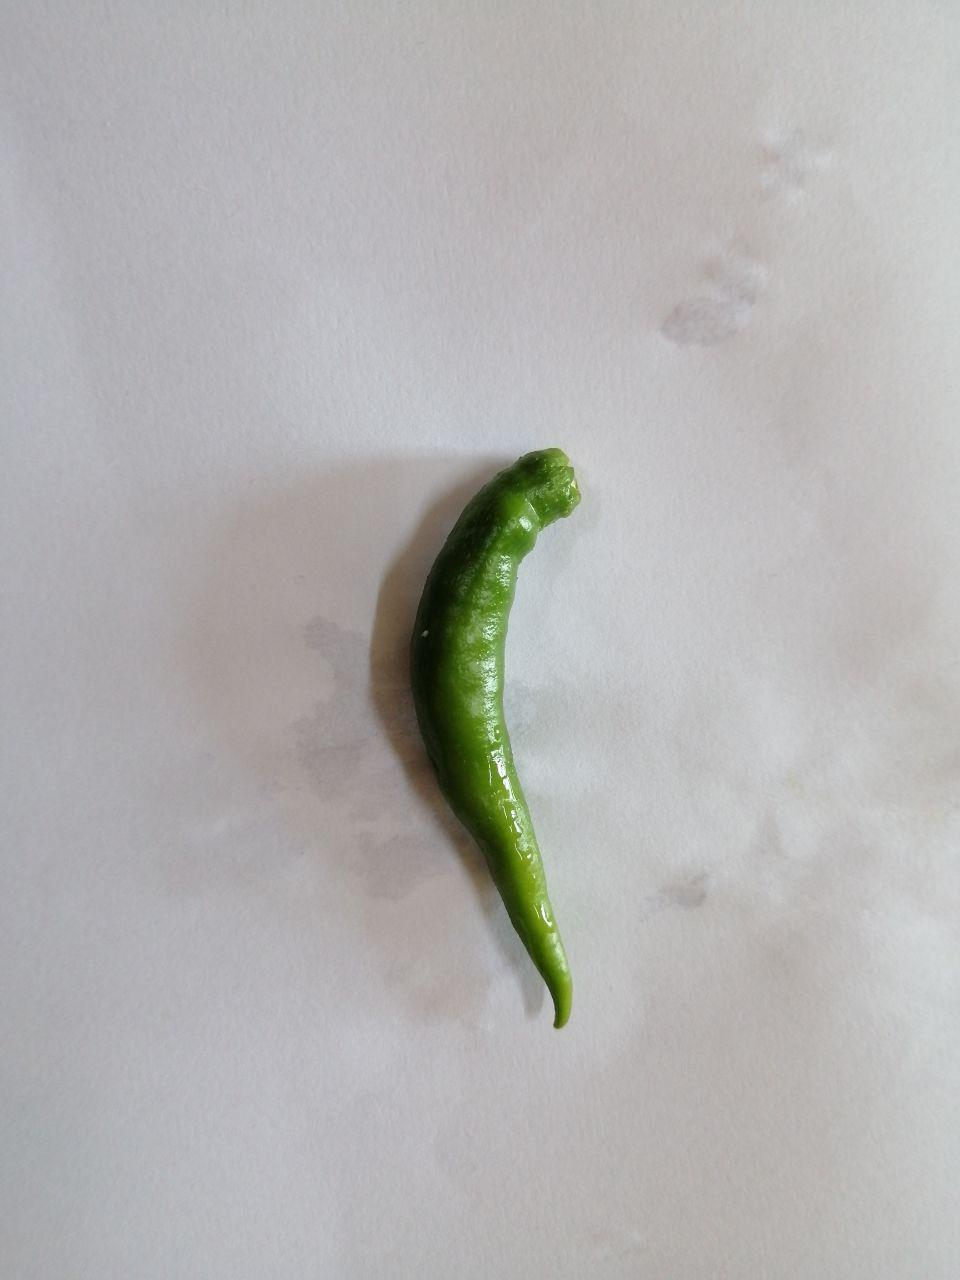lada hijau: (384, 435, 641, 1055)
